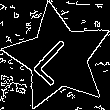L_NE: (29, 29, 87, 86)
